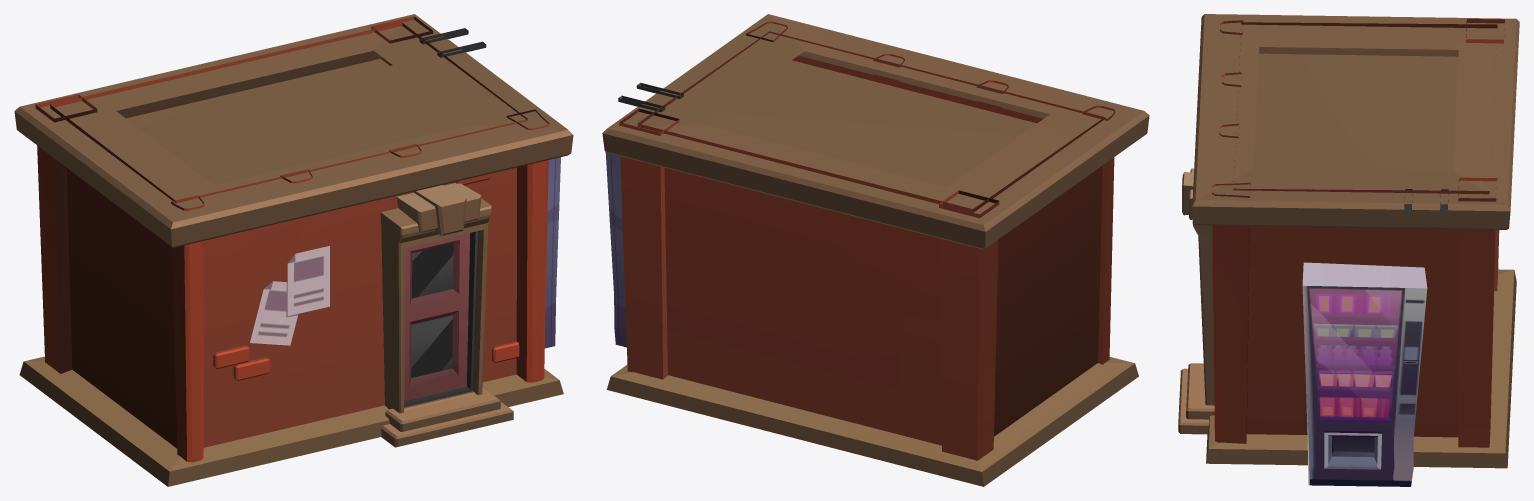
The model's file is ground.glb.
The picture shows the model from 3 angles, left to right: view 1: azimuth 30°, elevation 25°; view 2: azimuth 150°, elevation 25°; view 3: azimuth 270°, elevation 25°; orthographic projection. The views are drawn at different scales.
Parts seen in each view (by area): view 1: MOVABLE_Ground_Floor; view 2: MOVABLE_Ground_Floor; view 3: MOVABLE_Ground_Floor.
Part boxes in pixels (bbox=[...]): MOVABLE_Ground_Floor: bbox=[14, 14, 573, 486]; MOVABLE_Ground_Floor: bbox=[602, 14, 1149, 486]; MOVABLE_Ground_Floor: bbox=[1178, 14, 1519, 486].
Size of the model in its own units: 4.94 by 2.9 by 3.36.
5 materials, 5 textured.
